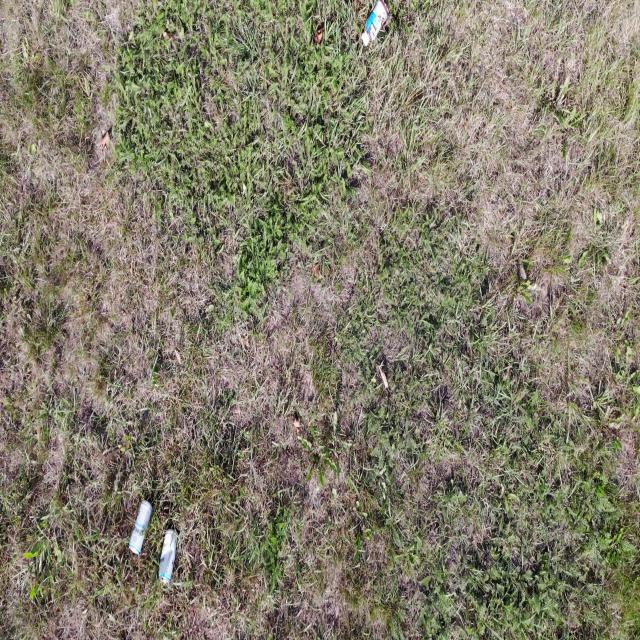rubbish: (361, 0, 391, 47), (128, 501, 152, 555), (159, 528, 177, 583)
